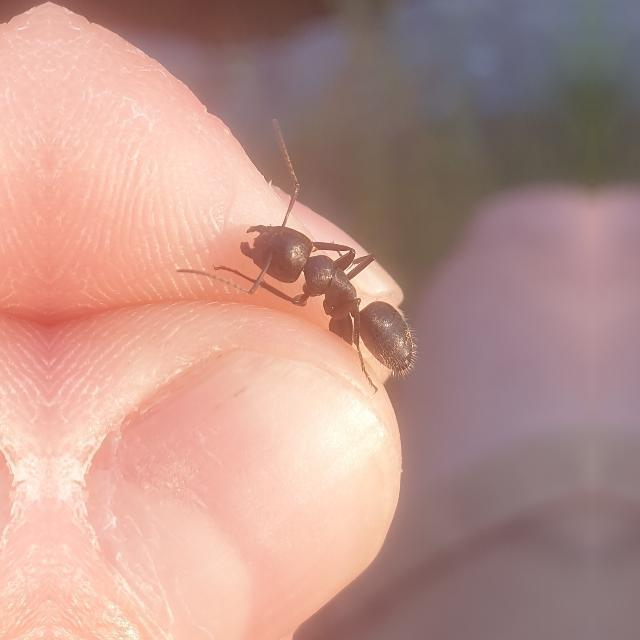Camponotus: (201, 176, 439, 412)
